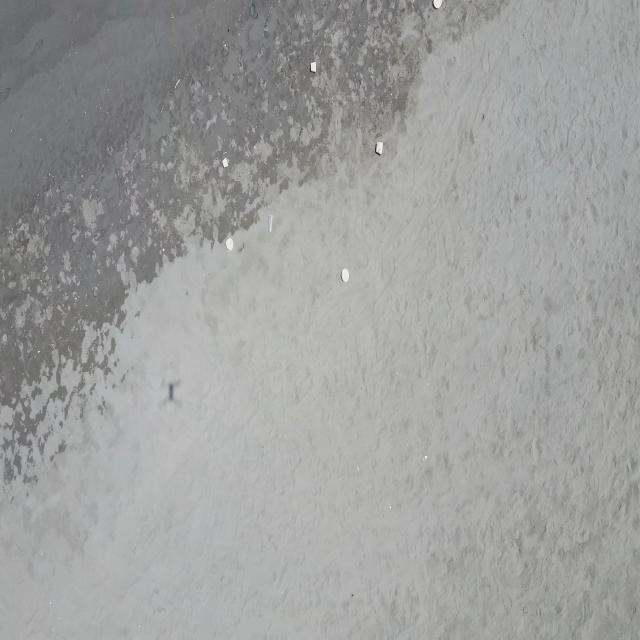take-away-containers: (341, 268, 350, 283), (376, 140, 384, 156), (226, 237, 234, 252), (310, 60, 317, 75), (433, 0, 442, 10), (222, 157, 229, 169)
takeaway-cup: (267, 214, 275, 233)
